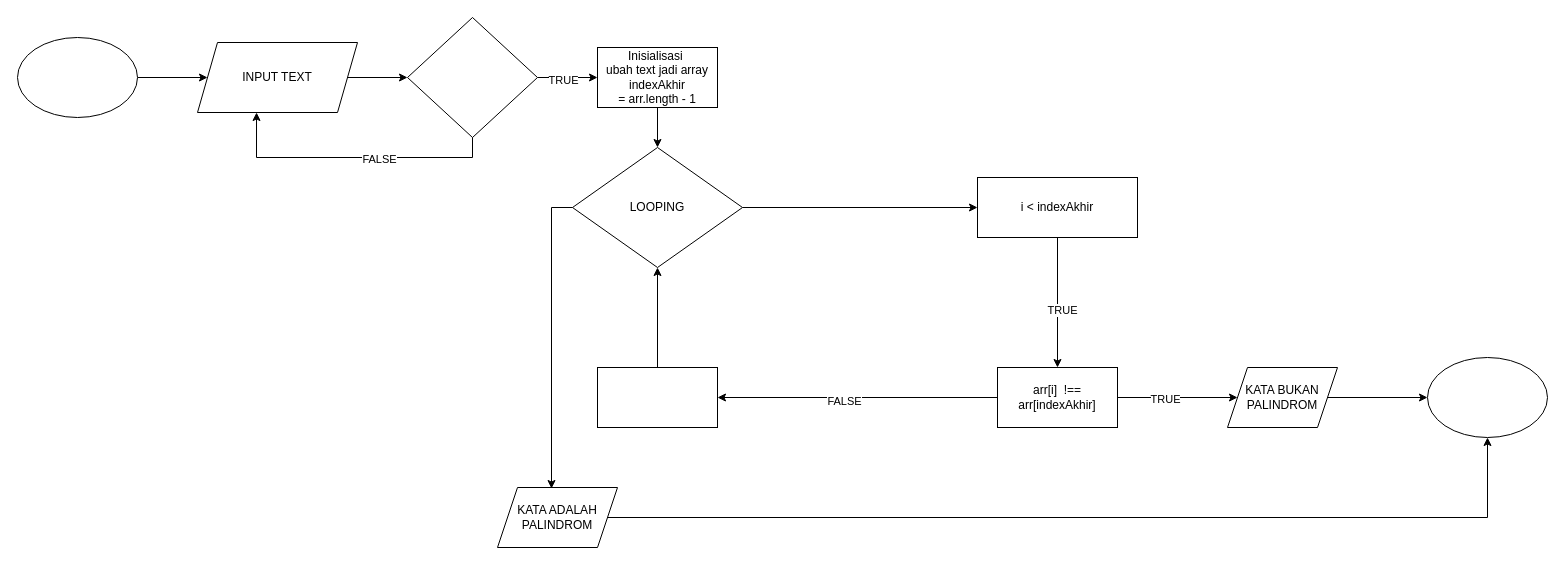
Some shapes in this 1565 by 565 pixel diagram are drawn without their labels. Here are the shapes that lost their labels. From the top down, the centre of each, then its label:
the point at 77,77: Mulai
the point at 472,77: JIKA INPUT BUKAN STING
the point at 657,397: indexAkhirr--
the point at 1487,397: SELESAI
